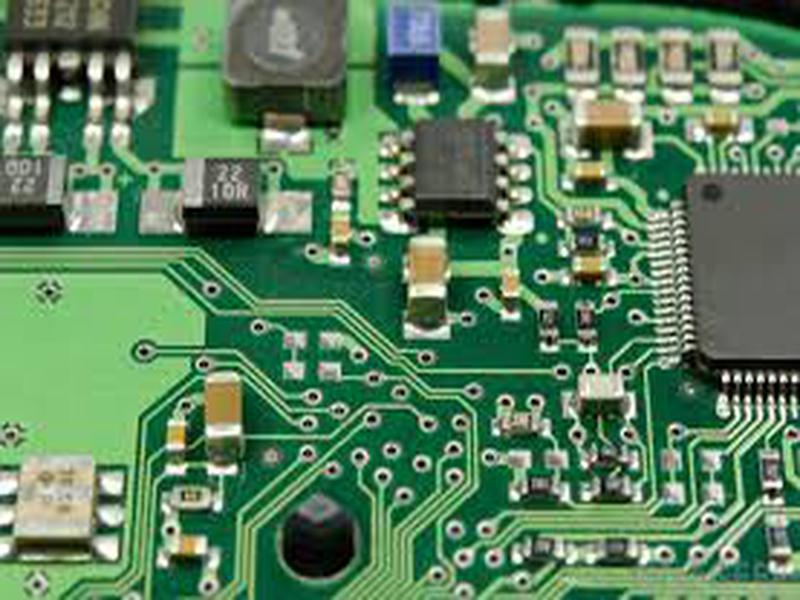SMD capacitor: (405, 237, 450, 322), (205, 368, 245, 454), (573, 102, 644, 150), (577, 371, 627, 413)
